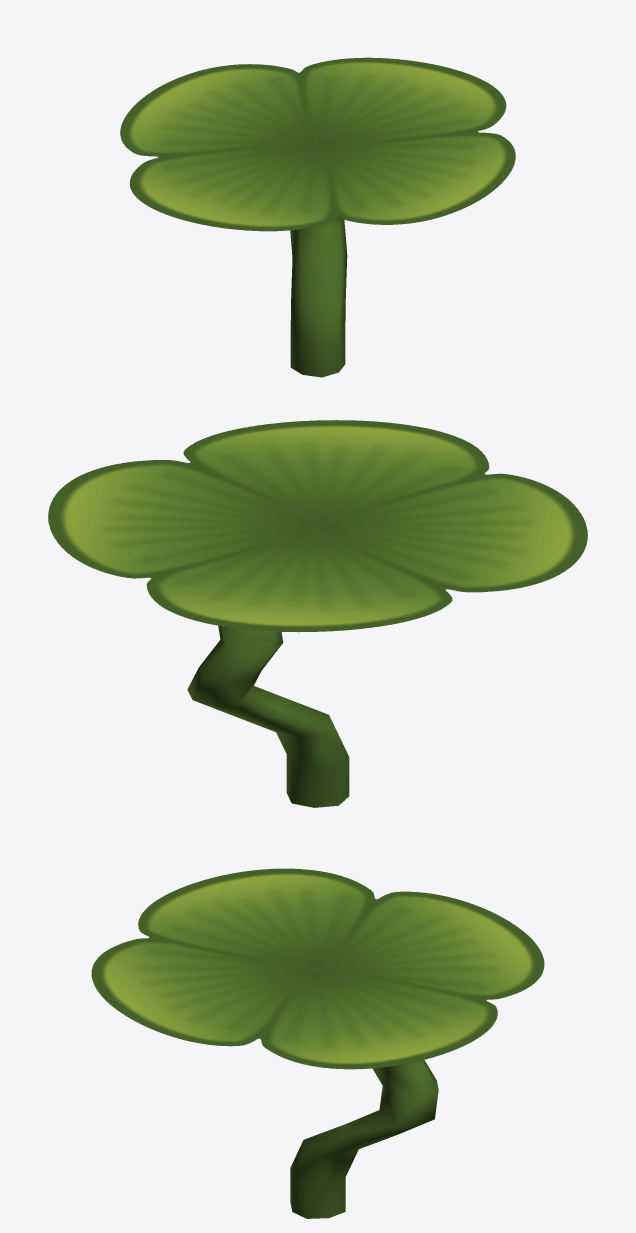
Rendered from LillyPadhand.fbx.
The picture shows the model from 3 angles, top to bottom: view 1: azimuth 30°, elevation 25°; view 2: azimuth 150°, elevation 25°; view 3: azimuth 270°, elevation 25°; orthographic projection. The views are drawn at different scales.
Visible parts, largest first — view 1: RoofTile, LillypadBase; view 2: RoofTile, LillypadBase; view 3: RoofTile, LillypadBase.
Boxes of the visible parts, x1,y1,x2,y2 form: RoofTile: [120, 57, 515, 231]; LillypadBase: [290, 216, 347, 377]; RoofTile: [48, 420, 587, 632]; LillypadBase: [187, 625, 349, 807]; RoofTile: [91, 868, 544, 1069]; LillypadBase: [290, 1060, 438, 1218].
Bounding box in the file's own units: 0.9057 × 0.3787 × 0.8755.
